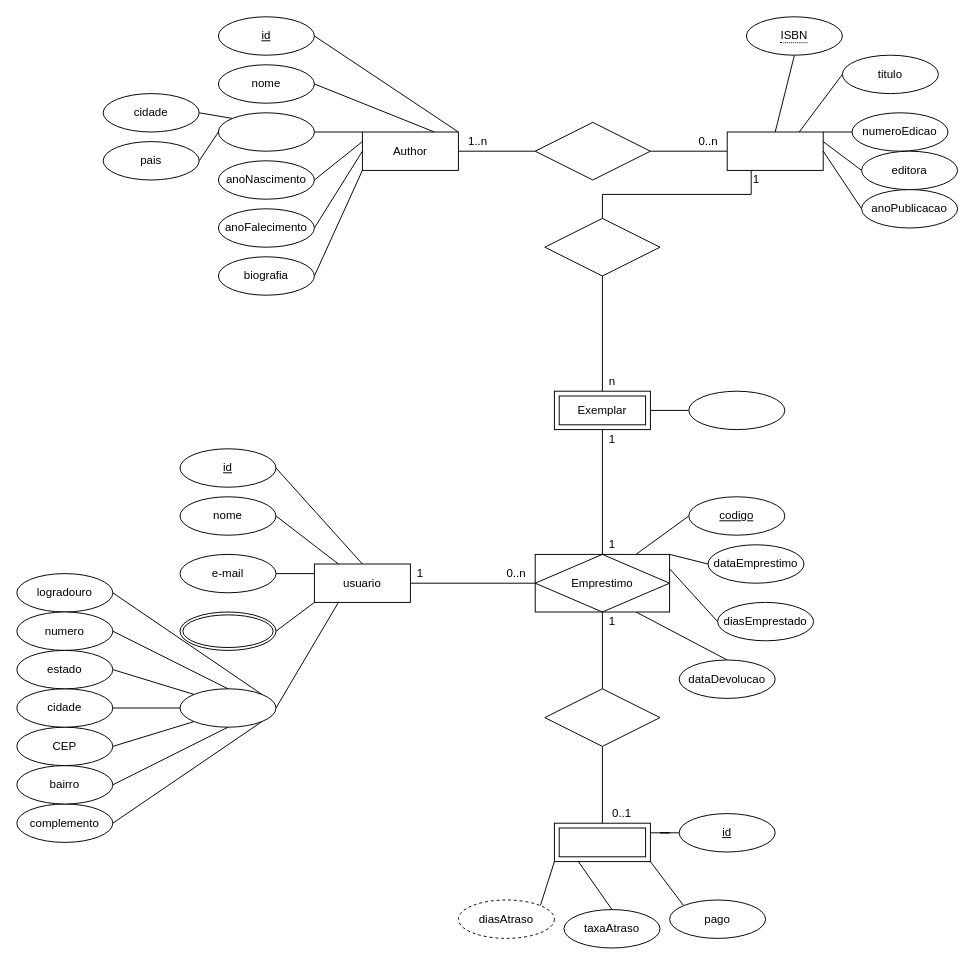
Some shapes in this 974 by 965 pixel diagram are drawn without their labels. The shapes that lost their labels are listed below. From the top down, each one's centre as x and y in pixels, then its label:
the point at 265,131: localNascimento
the point at 592,150: autoria
the point at 774,150: livro
the point at 602,246: possui
the point at 736,410: codigoExemplar
the point at 227,630: telefone
the point at 227,707: endereco
the point at 602,717: Gera
the point at 601,842: Multa
